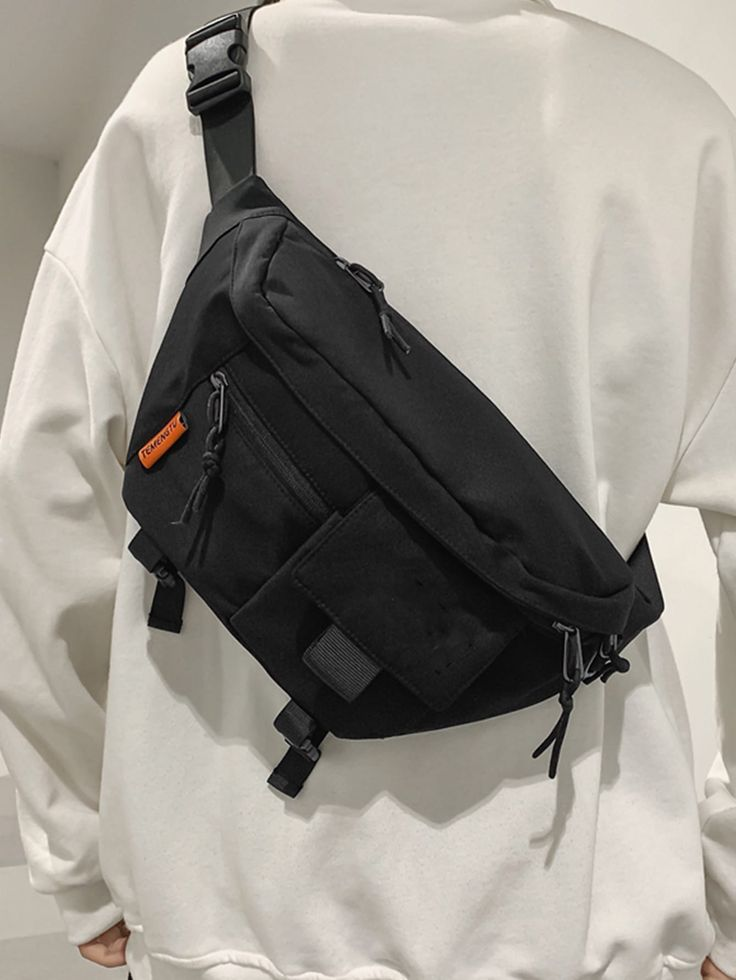nylon: (120, 198, 665, 745)
